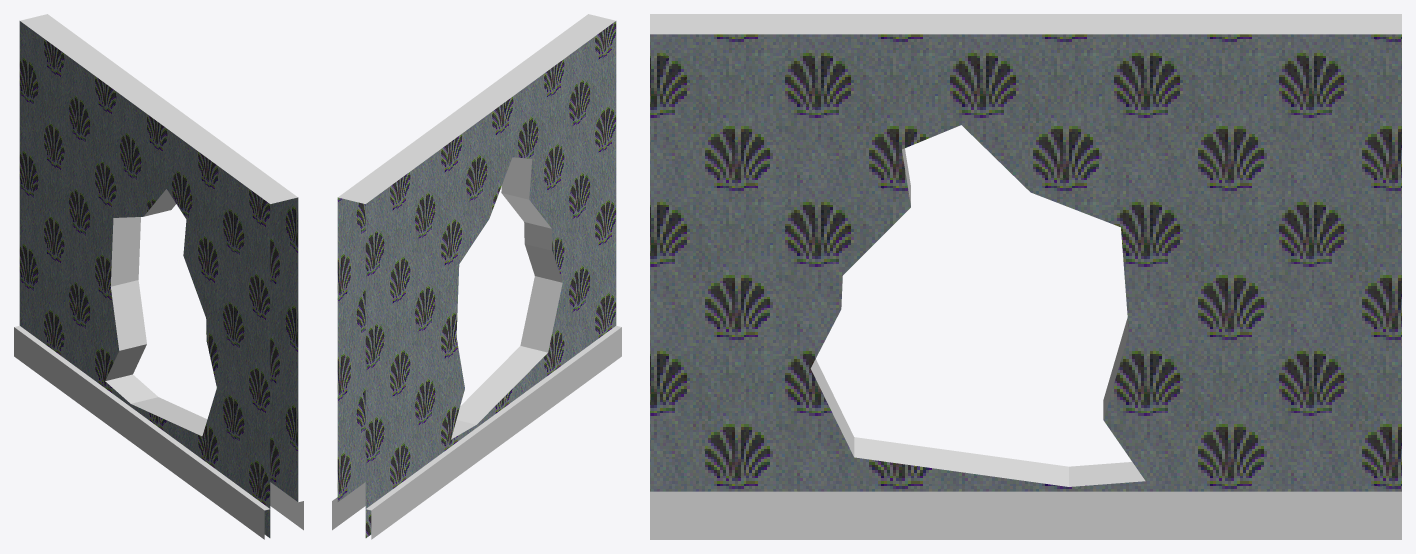
The model's file is wall_hole.fbx.
3 renders of one model, left to right at view 1: azimuth 30°, elevation 25°; view 2: azimuth 150°, elevation 25°; view 3: azimuth 270°, elevation 25°, orthographic. The views are drawn at different scales.
Visible parts, largest first — view 1: WallCracked; view 2: WallCracked; view 3: WallCracked.
Part boxes in pixels (box(x1,y1,x2,y2)): WallCracked: box(14, 14, 303, 539); WallCracked: box(332, 14, 621, 539); WallCracked: box(650, 14, 1401, 539).
Bounding box in the file's own units: 69.43 × 568 × 771.
